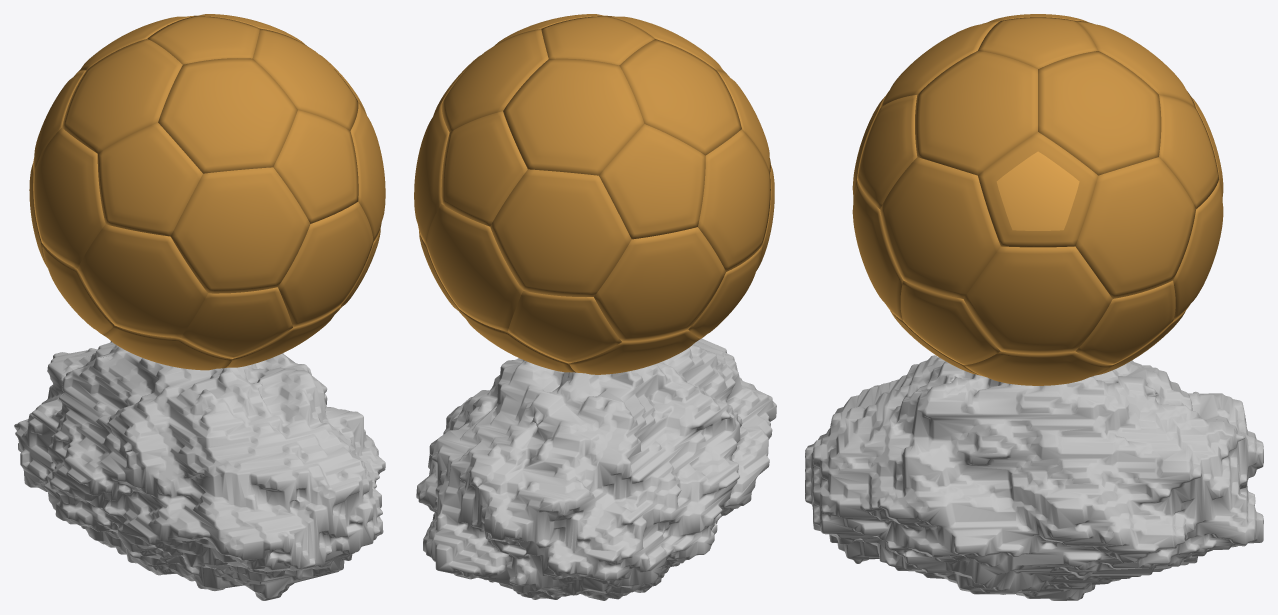
Rendered from ballon-dor.glb.
The picture shows the model from 3 angles, left to right: view 1: azimuth 30°, elevation 25°; view 2: azimuth 150°, elevation 25°; view 3: azimuth 270°, elevation 25°; orthographic projection. The views are drawn at different scales.
Parts seen in each view (by area): view 1: Icosphere_2, Sphere_4; view 2: Icosphere_2, Sphere_4; view 3: Icosphere_2, Sphere_4.
Boxes of the visible parts, x1=… form: Icosphere_2: x1=29, y1=14, x2=385, y2=370; Sphere_4: x1=14, y1=341, x2=385, y2=600; Icosphere_2: x1=414, y1=14, x2=774, y2=374; Sphere_4: x1=416, y1=338, x2=776, y2=600; Icosphere_2: x1=852, y1=14, x2=1223, y2=385; Sphere_4: x1=805, y1=355, x2=1263, y2=600.
Bounding box in the file's own units: 1.86 × 3.04 × 2.3.
